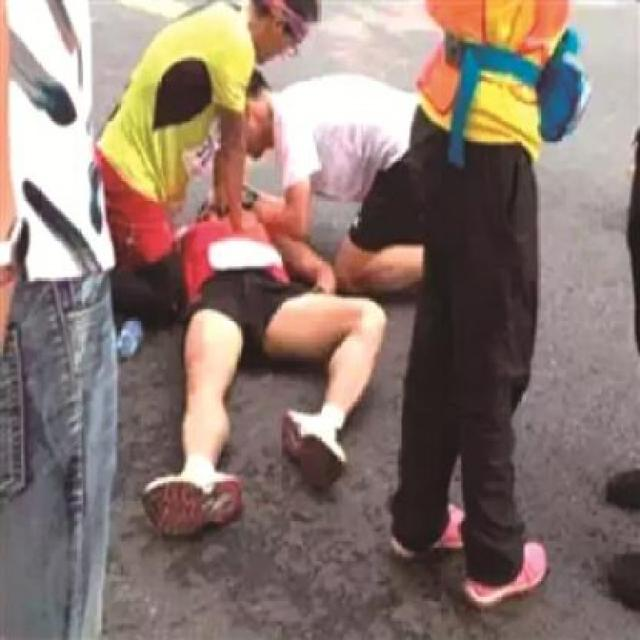fall: (133, 146, 385, 548)
